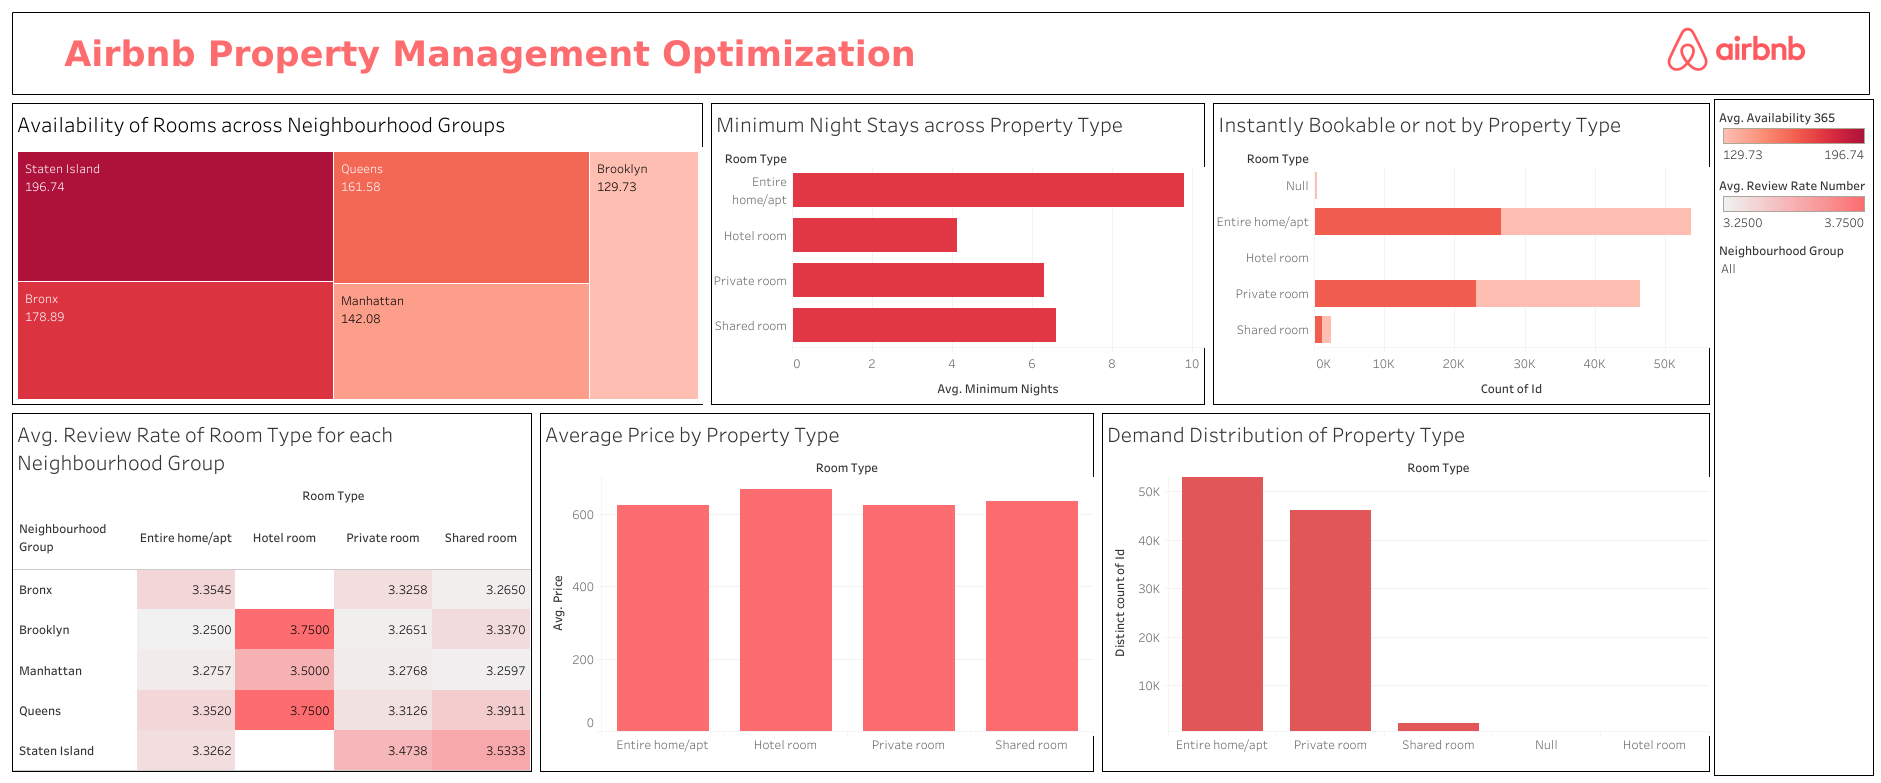

Layout of this report page (visuals, bound fields, positions):
{"tool":"tableau","page":{"name":"Dashboard 1 (2)","canvas":[1000,1000],"units":"permille","ordinal":1},"visuals":[{"type":"image","param":"E:/Data_Analytics/WsCube/Projects/AirBnb/images/logo.png","box":[879.9,4.9,115.3,115.9]},{"type":"text","box":[4.2,9.9,991.5,115.9]},{"type":"worksheet","title":"Sheet 10","mark":"Automatic","box":[4.2,125.8,371.6,395.8]},{"type":"worksheet","title":"Sheet 15","mark":"Automatic","rows":["room type"],"cols":["minimum nights"],"box":[375.9,125.8,266.9,395.8]},{"type":"worksheet","title":"Sheet 12","mark":"Automatic","rows":["room type"],"cols":["id"],"box":[642.8,125.8,268.2,395.8]},{"type":"legend","title":"Sheet 10","param":"[federated.0o5vly91xbzcxx1f0rav40z5rqm1].[avg:availability 365:qk]","box":[911.5,127,83.7,90]},{"type":"legend","title":"Sheet 8","param":"[federated.0o5vly91xbzcxx1f0rav40z5rqm1].[avg:review rate number:qk]","box":[911.5,217,83.7,90]},{"type":"filter","title":"Sheet 13","param":"[federated.0o5vly91xbzcxx1f0rav40z5rqm1].[none:neighbourhood group:nk]","box":[911.5,307,83.7,75.2]},{"type":"worksheet","title":"Sheet 8","mark":"Automatic","rows":["neighbourhood group"],"cols":["room type"],"box":[4.2,521.6,280.4,468.6]},{"type":"worksheet","title":"Sheet 13","mark":"Automatic","rows":["price"],"cols":["room type"],"box":[284.7,521.6,298.8,468.6]},{"type":"worksheet","title":"Sheet 3","mark":"Automatic","rows":["id"],"cols":["room type"],"box":[583.4,521.6,327.6,468.6]}]}

Visuals, with their boxes on the dashboard's canvas, which has no fixed pixel size, in thousandths of its width and height (x1, y1, x2, y2). These are canvas units, not pixel positions in the 1881x783 screenshot, which may show the page scaled, cropped or inside an application window:
image: select_region(880, 5, 995, 121)
text: select_region(4, 10, 996, 126)
"Sheet 10" worksheet: select_region(4, 126, 376, 522)
"Sheet 15" worksheet: select_region(376, 126, 643, 522)
"Sheet 12" worksheet: select_region(643, 126, 911, 522)
"Sheet 10" legend: select_region(912, 127, 995, 217)
"Sheet 8" legend: select_region(912, 217, 995, 307)
"Sheet 13" filter: select_region(912, 307, 995, 382)
"Sheet 8" worksheet: select_region(4, 522, 285, 990)
"Sheet 13" worksheet: select_region(285, 522, 584, 990)
"Sheet 3" worksheet: select_region(583, 522, 911, 990)
